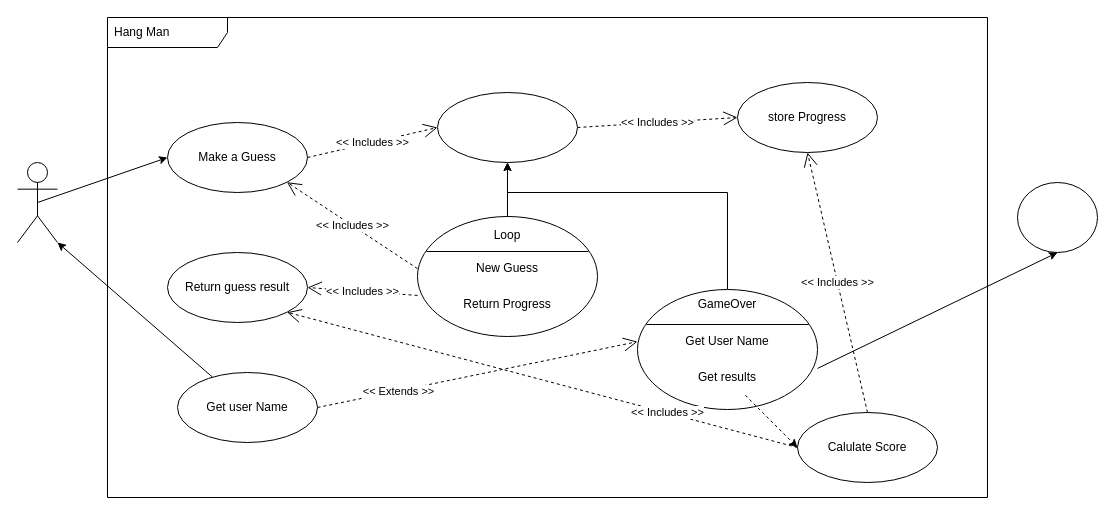
Some shapes in this 1115 by 515 pixel diagram are drawn without their labels. The centre of each missing label's shape, as x and y in pixels:
Actor: the point at 37,202
Database: the point at 1057,217
Verify Guess: the point at 507,127
